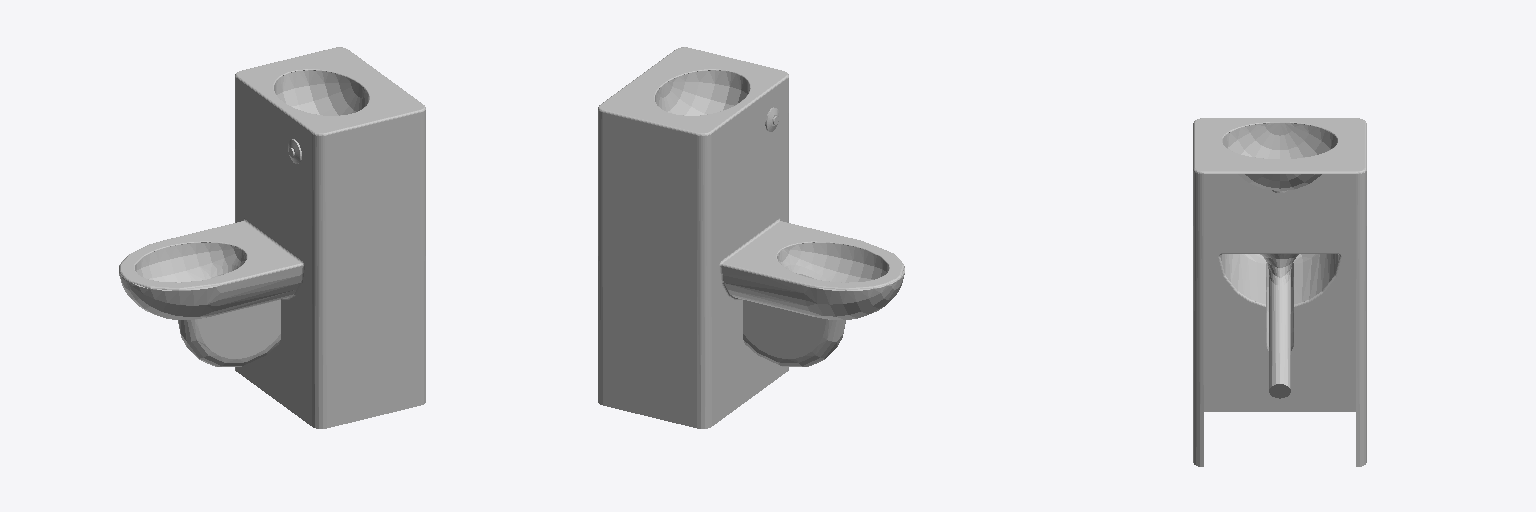
The model's file is Toilet_Sink.obj.
The picture shows the model from 3 angles: view 1: azimuth 30°, elevation 25°; view 2: azimuth 150°, elevation 25°; view 3: azimuth 270°, elevation 25°; orthographic projection.
Visible parts, largest first — view 1: Prison_toilet_object_1; view 2: Prison_toilet_object_1; view 3: Prison_toilet_object_1.
Boxes of the visible parts, x1,y1,x2,y2 form: Prison_toilet_object_1: [119, 47, 425, 428]; Prison_toilet_object_1: [598, 47, 904, 428]; Prison_toilet_object_1: [1193, 118, 1366, 466].
Size of the model in its own units: 27.85 by 30 by 16.